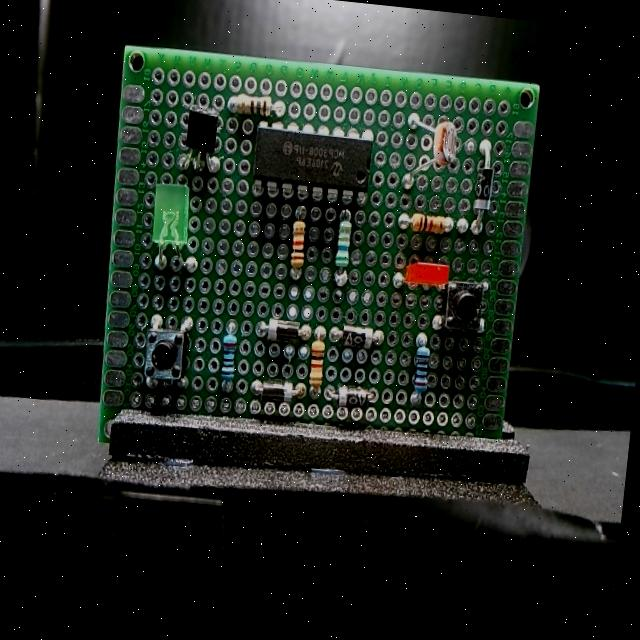IC: (248, 118, 374, 204)
cds: (418, 116, 462, 172)
diode: (471, 152, 497, 222), (252, 374, 296, 406), (328, 382, 370, 412), (335, 322, 378, 351), (262, 316, 302, 346)
led: (146, 179, 194, 255), (402, 259, 452, 290)
resistor: (217, 329, 240, 392), (409, 344, 432, 402), (230, 90, 273, 120), (331, 216, 353, 274), (286, 215, 308, 272), (304, 337, 326, 394), (404, 211, 449, 236)
switch: (140, 323, 190, 387), (442, 277, 485, 334)
transistor: (181, 106, 221, 162)
